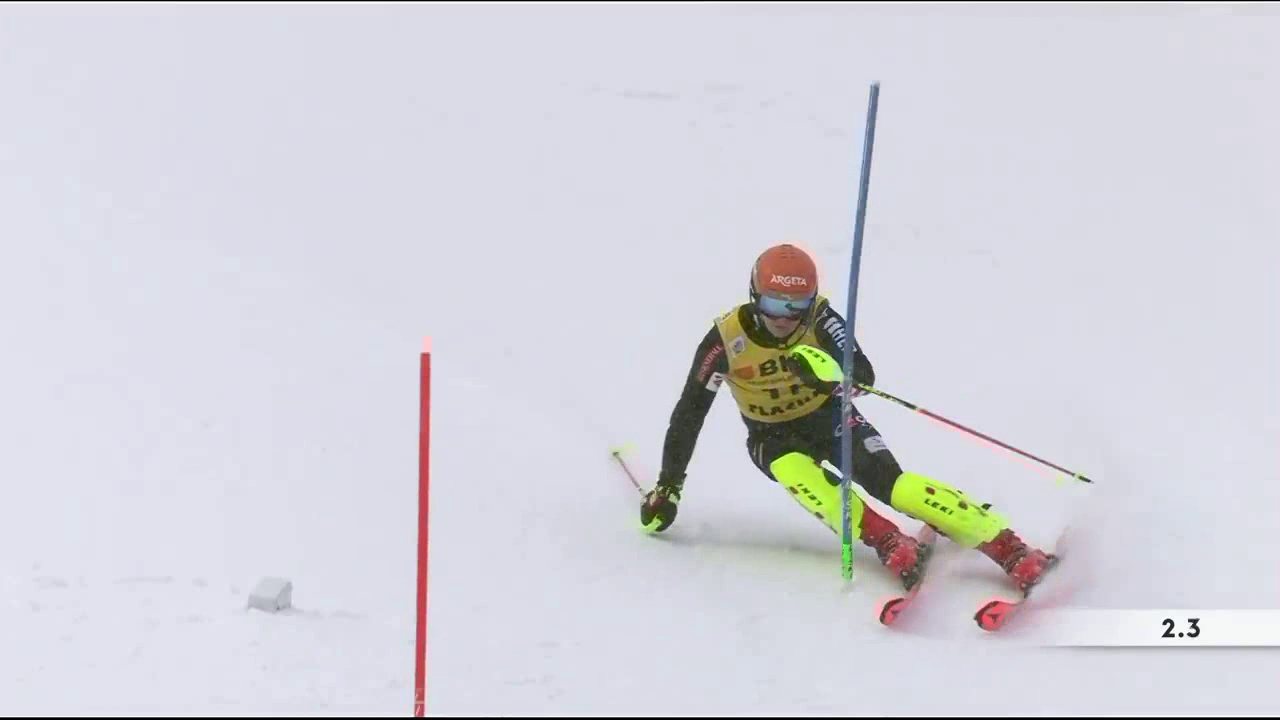rauch: (742, 373, 827, 422)
